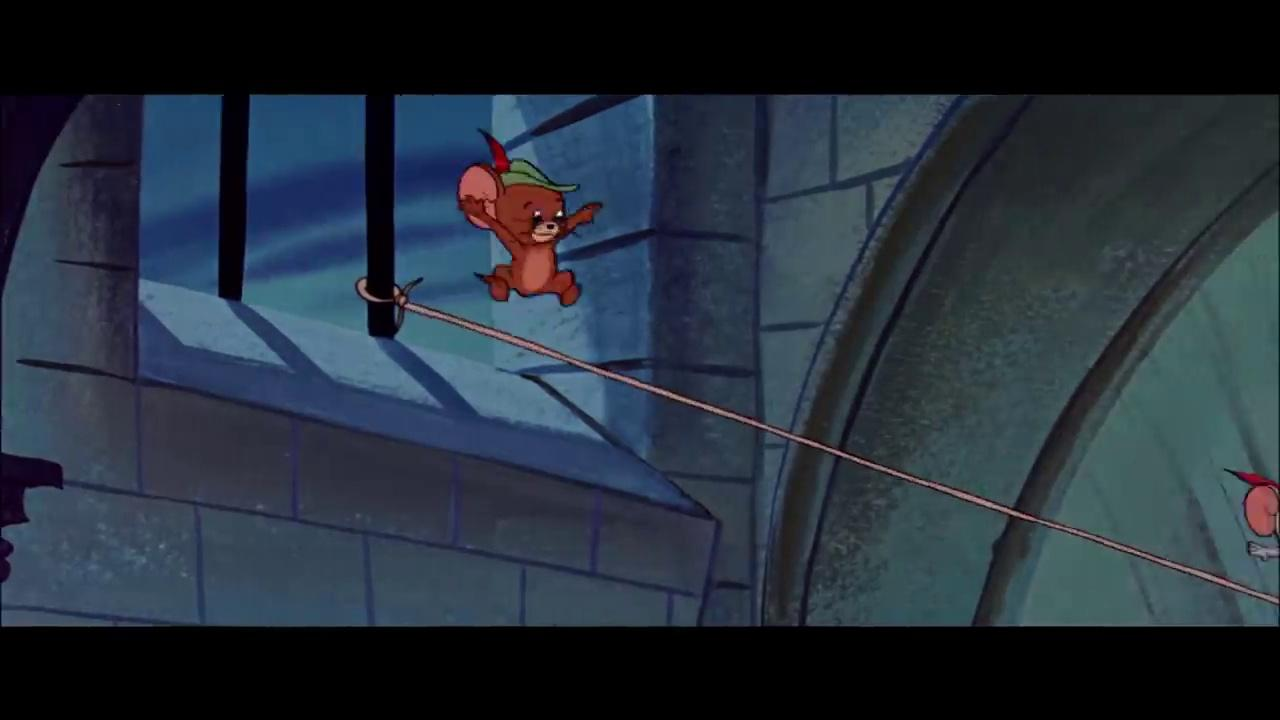Jerry: (456, 162, 605, 308)
